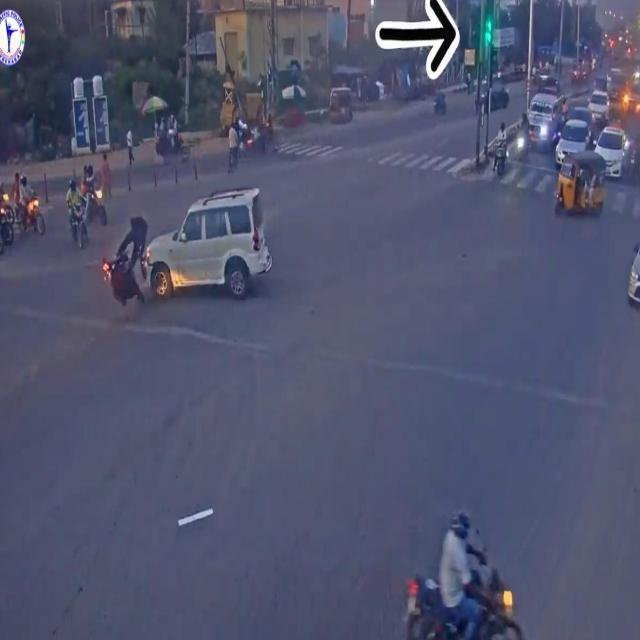accident: (100, 182, 276, 314)
non_accident: (494, 93, 640, 227), (58, 154, 110, 254), (0, 163, 48, 264)
